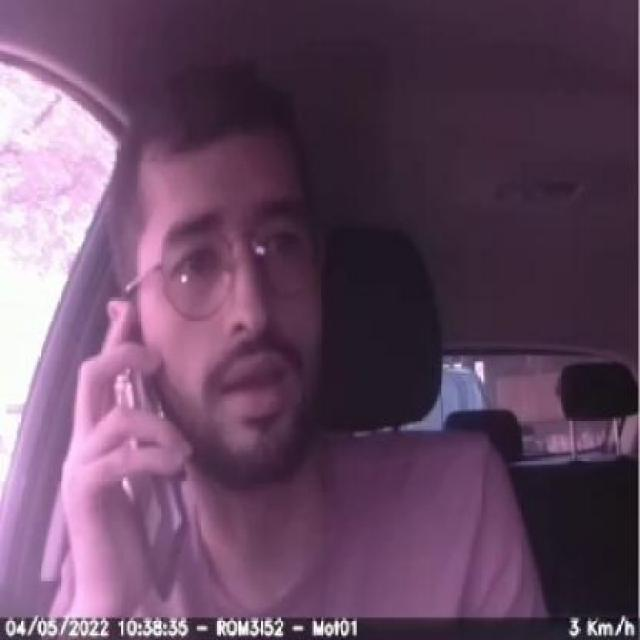using_phone: (33, 312, 226, 603)
